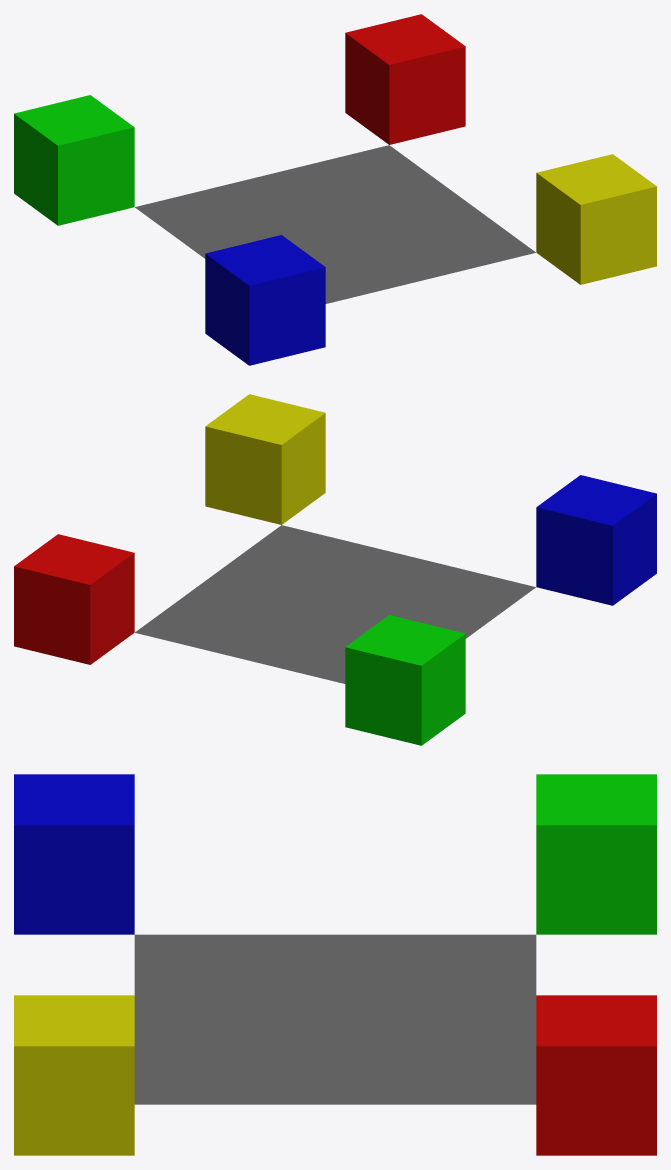
File: field.obj
3 views of the same model, one above another, from view 1: azimuth 30°, elevation 25°; view 2: azimuth 150°, elevation 25°; view 3: azimuth 270°, elevation 25° (orthographic). The views are drawn at different scales.
Parts seen in each view (by area): view 1: Floor_Plane.014, Cube.001, Cube, Cube.003, Cube.002; view 2: Floor_Plane.014, Cube.003, Cube.002, Cube.001, Cube; view 3: Floor_Plane.014, Cube.003, Cube.002, Cube.001, Cube.
Boxes of the visible parts, x1=… form: Floor_Plane.014: x1=135, y1=145, x2=535, y2=303; Cube.001: x1=205, y1=235, x2=325, y2=365; Cube: x1=345, y1=14, x2=465, y2=144; Cube.003: x1=536, y1=154, x2=656, y2=284; Cube.002: x1=14, y1=95, x2=134, y2=225; Floor_Plane.014: x1=135, y1=525, x2=535, y2=683; Cube.003: x1=205, y1=394, x2=325, y2=524; Cube.002: x1=345, y1=615, x2=465, y2=745; Cube.001: x1=536, y1=475, x2=656, y2=605; Cube: x1=14, y1=534, x2=134, y2=664; Floor_Plane.014: x1=134, y1=934, x2=536, y2=1104; Cube.003: x1=14, y1=995, x2=134, y2=1155; Cube.002: x1=536, y1=774, x2=656, y2=934; Cube.001: x1=14, y1=774, x2=134, y2=934; Cube: x1=536, y1=995, x2=656, y2=1155.
Size of what is drawn, in the model's own units: 32 by 6 by 32.
